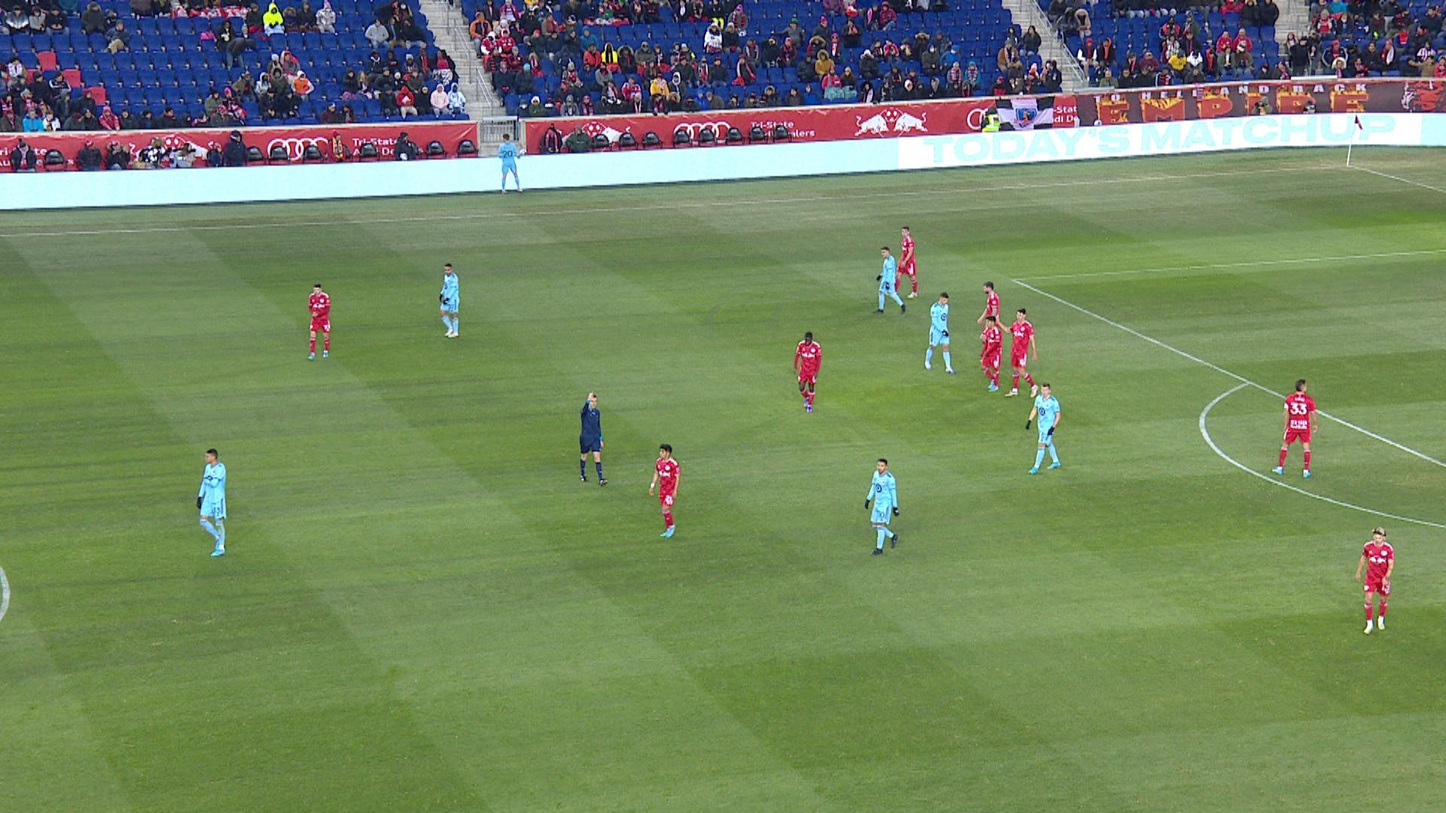Player: (1272, 379, 1318, 477), (1356, 526, 1394, 635), (995, 307, 1039, 397), (1025, 382, 1061, 474), (865, 458, 899, 555), (197, 448, 227, 556), (649, 444, 680, 538), (924, 292, 956, 374), (872, 246, 907, 315), (793, 332, 822, 413), (308, 283, 331, 361), (980, 315, 1003, 392), (895, 225, 918, 299), (439, 263, 460, 338), (498, 133, 522, 194), (977, 281, 1000, 324), (980, 324, 988, 346), (995, 321, 1001, 330)
referee: (579, 391, 608, 486)
